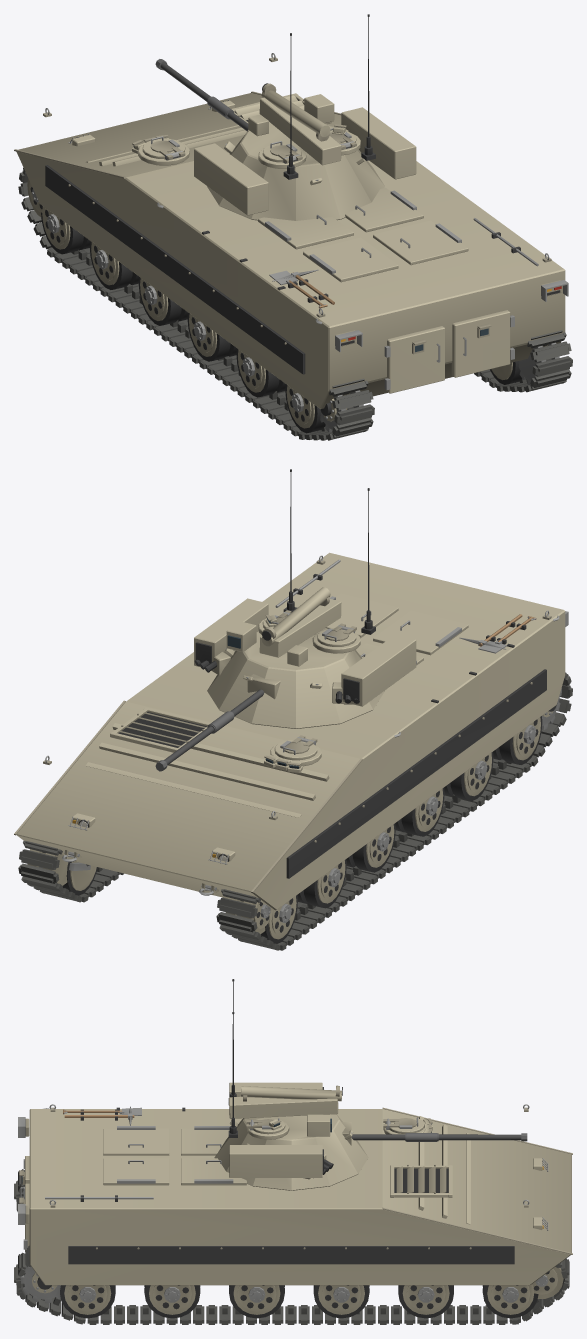
The model's file is ifv_rus.glb.
3 renders of one model, top to bottom at view 1: azimuth 30°, elevation 25°; view 2: azimuth 150°, elevation 25°; view 3: azimuth 270°, elevation 25°, orthographic. The views are drawn at different scales.
Visible parts, largest first — view 1: body, turret, barrel; view 2: body, turret, barrel; view 3: body, turret, barrel.
Part boxes in pixels (left/top/right/bottom): body: left=14, top=53, right=572, bottom=440; turret: left=194, top=14, right=416, bottom=220; barrel: left=155, top=59, right=249, bottom=131; body: left=14, top=552, right=572, bottom=950; turret: left=194, top=469, right=416, bottom=728; barrel: left=155, top=674, right=280, bottom=771; body: left=14, top=1104, right=572, bottom=1324; turret: left=214, top=979, right=368, bottom=1190; barrel: left=342, top=1122, right=527, bottom=1145.
Size of the model in its own units: 3.18 by 3.97 by 7.2.
